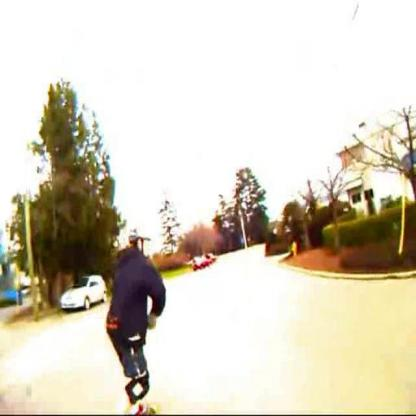other: (186, 246, 224, 277)
